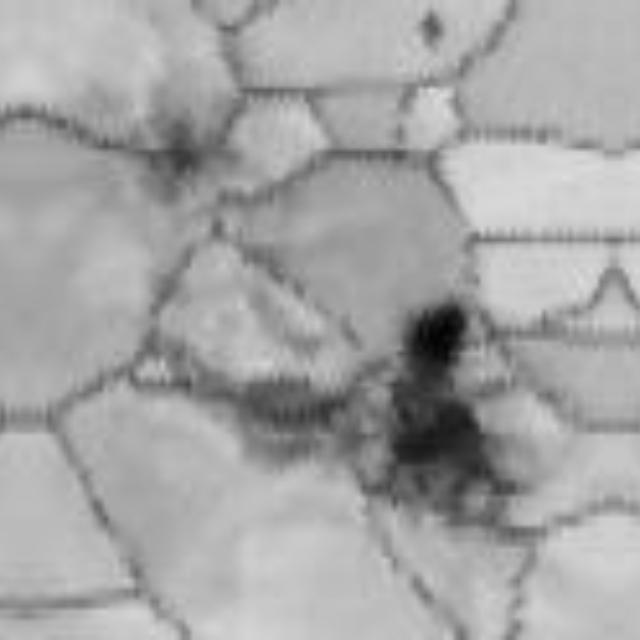good_void: (391, 310, 479, 501), (149, 124, 200, 201), (417, 10, 438, 52)
